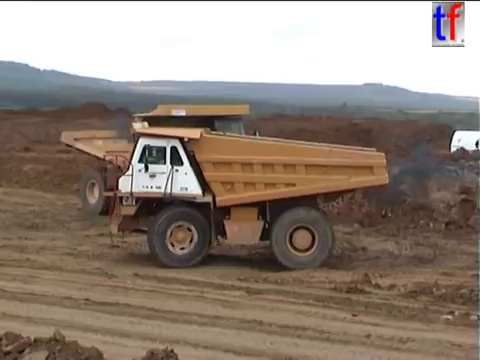truck: (100, 119, 391, 271), (57, 102, 264, 219)
